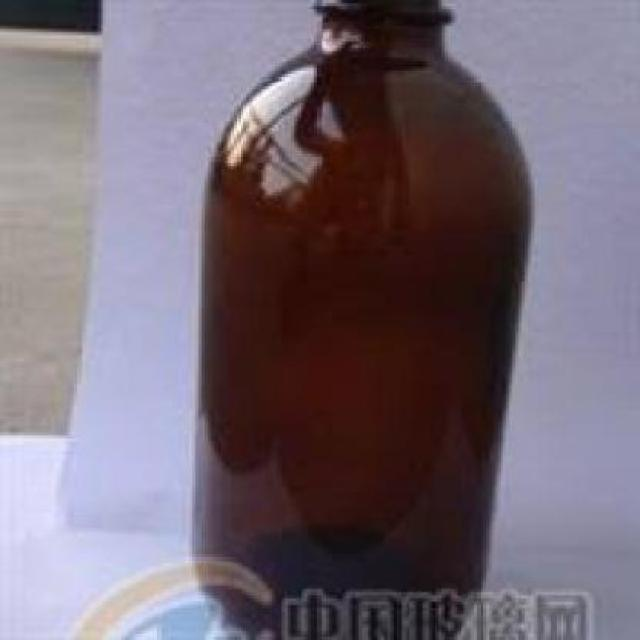kaca: (189, 0, 531, 637)
